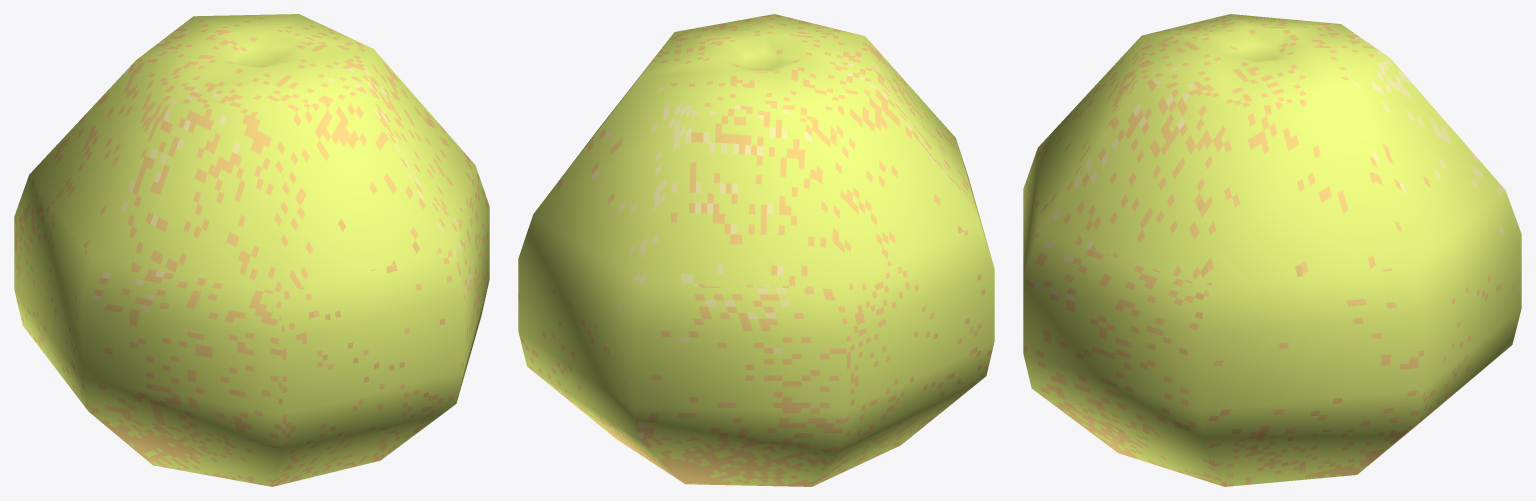
File: pomellosmooth.dae
The picture shows the model from 3 angles, left to right: view 1: azimuth 30°, elevation 25°; view 2: azimuth 150°, elevation 25°; view 3: azimuth 270°, elevation 25°; orthographic projection. The views are drawn at different scales.
Parts seen in each view (by area): view 1: Cylinder; view 2: Cylinder; view 3: Cylinder.
Part boxes in pixels (x1,y1,x2,y2): Cylinder: (14,14,489,486); Cylinder: (518,14,994,486); Cylinder: (1023,14,1521,486).
Bounding box in the file's own units: 1.8 × 1.87 × 1.62.
Materials: 1 (1 with a texture image).
